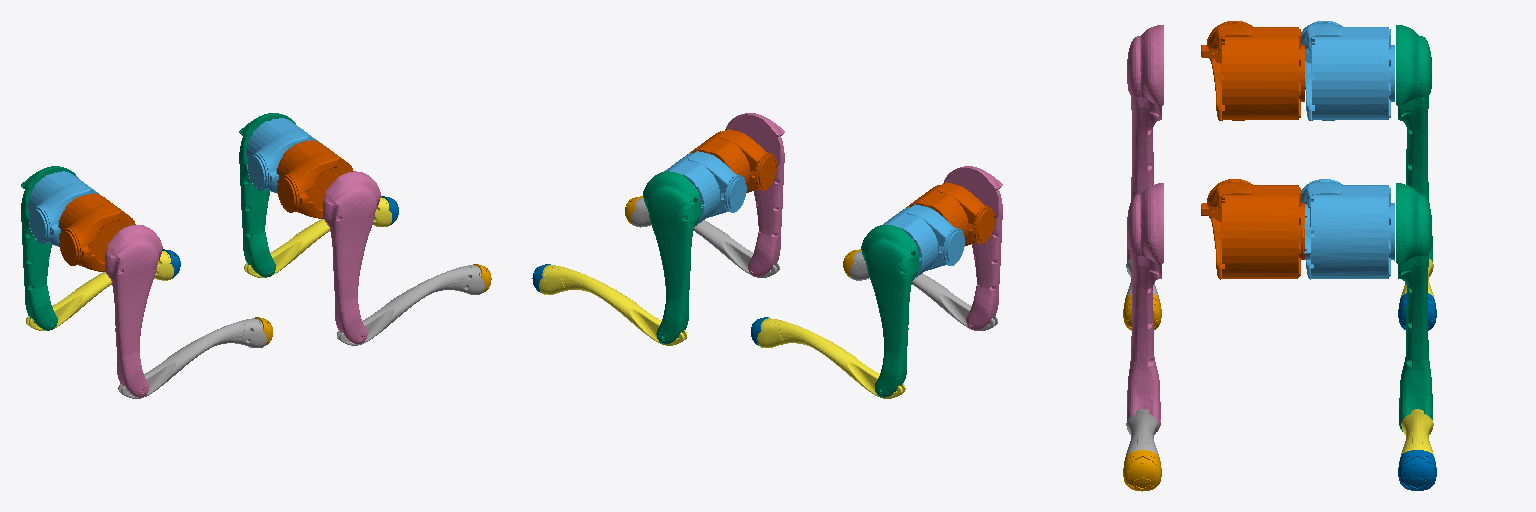
URDF robot description (xiaoli_description0522):
<?xml version="1.0" encoding="utf-8"?>
<!-- This URDF was automatically created by SolidWorks to URDF Exporter! Originally created by Stephen Brawner (brawner@gmail.com) 
     Commit Version: 1.6.0-4-g7f85cfe  Build Version: 1.6.7995.38578
     For more information, please see http://wiki.ros.org/sw_urdf_exporter -->
<robot
  name="xiaoli_description0522">
 <link
    name="base">
    <inertial>
      <origin
        xyz="0.041671 -0.000912 0.025541"
        rpy="0 0 0" />
      <mass
        value="9.707642" />
      <inertia
        ixx="0.065373"
        ixy=" -0.000680"
        ixz=" -0.036230"
        iyy=" 0.207511"
        iyz="-0.000417"
        izz="0.183834" />
    </inertial>
    <visual>
      <origin
        xyz="0 0 0"
        rpy="0 0 0" />
      <geometry>
        <mesh
          filename="package://xiaoli_description0522/meshes/base.STL" />
      </geometry>
      <material
        name="">
        <color
          rgba="1 1 1 1" />
      </material>
    </visual>
    <collision>
      <origin
        xyz="0 0 0"
        rpy="0 0 0" />
      <geometry>
        <mesh
          filename="package://xiaoli_description0522/meshes/base.STL" />
      </geometry>
    </collision>
  </link>
  
  <link
    name="FL_hip">
    <inertial>
      <origin
        xyz="-0.0054 0.00194 -0.000105"
        rpy="0 0 0" />
      <mass
        value="0.678" />
      <inertia
        ixx="0.00048"
        ixy="-3.01E-06"
        ixz="1.11E-06"
        iyy="0.000884"
        iyz="-1.42E-06"
        izz="0.000596" />
    </inertial>
    <visual>
      <origin
        xyz="0 0 0"
        rpy="0 0 0" />
      <geometry>
        <mesh
          filename="package://xiaoli_description0522/meshes/FL_hip.STL" />
      </geometry>
    </visual>
    <collision>
      <origin
        xyz="0 0 0"
        rpy="0 0 0" />
      <geometry>
        <mesh
          filename="package://xiaoli_description0522/meshes/FL_hip.STL" />
      </geometry>
    </collision>
  </link>
  <joint
    name="FL_hip_joint"
    type="revolute">
    <origin
      xyz="0.1934 0.0465 0"
      rpy="0 0 0" />
    <parent
      link="base" />
    <child
      link="FL_hip" />
    <axis
      xyz="1 0 0" />
    <limit
      lower="-1.0472"
      upper="1.0472"
      effort="23.7"
      velocity="30.1" />
  </joint>
  <link
    name="FL_thigh">
    <inertial>
      <origin
        xyz="-0.00374 -0.0223 -0.0327"
        rpy="0 0 0" />
      <mass
        value="1.152" />
      <inertia
        ixx="0.00584"
        ixy="8.72E-05"
        ixz="-0.000289"
        iyy="0.0058"
        iyz="0.000808"
        izz="0.00103" />
    </inertial>
    <visual>
      <origin
        xyz="0 0 0"
        rpy="0 0 0" />
      <geometry>
        <mesh
          filename="package://xiaoli_description0522/meshes/Fl_thigh.STL" />
      </geometry>
    </visual>
    <collision>
      <origin
        xyz="0 0 0"
        rpy="0 0 0" />
      <geometry>
        <mesh
          filename="package://xiaoli_description0522/meshes/Fl_thigh.STL" />
      </geometry>
    </collision>
  </link>
  <joint
    name="FL_thigh_joint"
    type="revolute">
    <origin
      xyz="0 0.0955 0"
      rpy="0 0 0" />
    <parent
      link="FL_hip" />
    <child
      link="FL_thigh" />
    <axis
      xyz="0 1 0" />
    <limit
      lower="-1.5708"
      upper="3.4907"
      effort="23.7"
      velocity="30.1" />
  </joint>
  <link
    name="FL_calf">
    <inertial>
      <origin
        xyz="0.00548 -0.000975 -0.115"
        rpy="0 0 0" />
      <mass
        value="0.154" />
      <inertia
        ixx="0.00108"
        ixy="3.4E-07"
        ixz="1.72E-05"
        iyy="0.0011"
        iyz="8.28E-06"
        izz="3.29E-05" />
    </inertial>
    <visual>
      <origin
        xyz="0 0 0"
        rpy="0 0 0" />
      <geometry>
        <mesh
          filename="package://xiaoli_description0522/meshes/FL_calf.STL" />
      </geometry>
    </visual>
    <collision>
      <origin
        xyz="0 0 0"
        rpy="0 0 0" />
      <geometry>
        <mesh
          filename="package://xiaoli_description0522/meshes/FL_calf.STL" />
      </geometry>
    </collision>
  </link>
  <joint
    name="FL_calf_joint"
    type="revolute">
    <origin
      xyz="0 0 -0.213"
      rpy="0 0 0" />
    <parent
      link="FL_thigh" />
    <child
      link="FL_calf" />
    <axis
      xyz="0 1 0" />
    <limit
      lower="-2.7227"
      upper="-0.83776"
      effort="45.43"
      velocity="15.70" />
  </joint>
 
  <link
    name="FL_foot">
    <inertial>
      <origin
        xyz="0 0 0"
        rpy="0 0 0" />
      <mass
        value="0.04" />
      <inertia
        ixx="9.6e-06"
        ixy="0"
        ixz="0"
        iyy="9.6e-06"
        iyz="0"
        izz="9.6e-06" />
    </inertial>
    <visual>
      <origin
        xyz="0 0 0"
        rpy="0 0 0" />
      <geometry>
        <mesh
          filename="package://xiaoli_description0522/meshes/FL_foot.STL" />
      </geometry>
    </visual>
    <collision>
      <origin
        xyz="0 0 0"
        rpy="0 0 0" />
      <geometry>
        <mesh
          filename="package://xiaoli_description0522/meshes/FL_foot.STL" />
      </geometry>
    </collision>
  </link>
  <joint
    name="FL_foot_joint"
    type="fixed" dont_collapse="true">
    <origin
      xyz="0 0 -0.213"
      rpy="0 0 0" />
    <parent
      link="FL_calf" />
    <child
      link="FL_foot" />
    <axis
      xyz="0 0 0" />
  </joint>
  <link
    name="FR_hip">
    <inertial>
      <origin
        xyz="-0.0054 -0.00194 -0.000105"
        rpy="0 0 0" />
      <mass
        value="0.678" />
      <inertia
        ixx="0.00048"
        ixy="3.01E-06"
        ixz="1.11E-06"
        iyy="0.000884"
        iyz="1.42E-06"
        izz="0.000596" />
    </inertial>
    <visual>
      <origin
        xyz="0 0 0"
        rpy="3.1415 0 0" />
      <geometry>
        <mesh
          filename="package://xiaoli_description0522/meshes/FR_hip.STL" />
      </geometry>
    </visual>
    <collision>
      <origin
        xyz="0 0 0"
        rpy="3.1415 0 0" />
      <geometry>
        <mesh
          filename="package://xiaoli_description0522/meshes/FR_hip.STL" />
      </geometry>
    </collision>
  </link>
  <joint
    name="FR_hip_joint"
    type="revolute">
    <origin
      xyz="0.1934 -0.0465 0"
      rpy="0 0 0" />
    <parent
      link="base" />
    <child
      link="FR_hip" />
    <axis
      xyz="1 0 0" />
    <limit
      lower="-1.0472"
      upper="1.0472"
      effort="23.7"
      velocity="30.1" />
  </joint>
  <link
    name="FR_thigh">
    <inertial>
      <origin
        xyz="-0.00374 0.0223 -0.0327"
        rpy="0 0 0" />
      <mass
        value="1.152" />
      <inertia
        ixx="0.00584"
        ixy="-8.72E-05"
        ixz="-0.000289"
        iyy="0.0058"
        iyz="-0.000808"
        izz="0.00103" />
    </inertial>
    <visual>
      <origin
        xyz="0 0 0"
        rpy="0 0 0" />
      <geometry>
        <mesh
          filename="package://xiaoli_description0522/meshes/FR_thigh.STL" />
      </geometry>
    </visual>
    <collision>
      <origin
        xyz="0 0 0"
        rpy="0 0 0" />
      <geometry>
        <mesh
          filename="package://xiaoli_description0522/meshes/FR_thigh.STL" />
      </geometry>
    </collision>
  </link>
  <joint
    name="FR_thigh_joint"
    type="revolute">
    <origin
      xyz="0 -0.0955 0"
      rpy="0 0 0" />
    <parent
      link="FR_hip" />
    <child
      link="FR_thigh" />
    <axis
      xyz="0 1 0" />
    <limit
      lower="-1.5708"
      upper="3.4907"
      effort="23.7"
      velocity="30.1" />
  </joint>
  <link
    name="FR_calf">
    <inertial>
      <origin
        xyz="0.00548 0.000975 -0.115"
        rpy="0 0 0" />
      <mass
        value="0.154" />
      <inertia
        ixx="0.00108"
        ixy="-3.4E-07"
        ixz="1.72E-05"
        iyy="0.0011"
        iyz="-8.28E-06"
        izz="3.29E-05" />
    </inertial>
    <visual>
      <origin
        xyz="0 0 0"
        rpy="0 0 0" />
      <geometry>
        <mesh
          filename="package://xiaoli_description0522/meshes/FR_calf.STL" />
      </geometry>
    </visual>
    <collision>
      <origin
        xyz="0 0 0"
        rpy="0 0 0" />
      <geometry>
        <mesh
          filename="package://xiaoli_description0522/meshes/FR_calf.STL" />
      </geometry>
    </collision>
  </link>
  <joint
    name="FR_calf_joint"
    type="revolute">
    <origin
      xyz="0 0 -0.213"
      rpy="0 0 0" />
    <parent
      link="FR_thigh" />
    <child
      link="FR_calf" />
    <axis
      xyz="0 1 0" />
    <limit
      lower="-2.7227"
      upper="-0.83776"
      effort="45.43"
      velocity="15.70" />
  </joint>
 
  <link
    name="FR_foot">
    <inertial>
      <origin
        xyz="0 0 0"
        rpy="0 0 0" />
      <mass
        value="0.04" />
      <inertia
        ixx="9.6e-06"
        ixy="0"
        ixz="0"
        iyy="9.6e-06"
        iyz="0"
        izz="9.6e-06" />
    </inertial>
    <visual>
      <origin
        xyz="0 0 0"
        rpy="0 0 0" />
      <geometry>
        <mesh
          filename="package://xiaoli_description0522/meshes/FR_foot.STL" />
      </geometry>
    </visual>
    <collision>
      <origin
        xyz="0 0 0"
        rpy="0 0 0" />
      <geometry>
        <mesh
          filename="package://xiaoli_description0522/meshes/FR_foot.STL" />
      </geometry>
    </collision>
  </link>
  <joint
    name="FR_foot_joint"
    type="fixed" dont_collapse="true">
    <origin
      xyz="0 0 -0.213"
      rpy="0 0 0" />
    <parent
      link="FR_calf" />
    <child
      link="FR_foot" />
    <axis
      xyz="0 0 0" />
  </joint>
  <link
    name="RL_hip">
    <inertial>
      <origin
        xyz="0.0054 0.00194 -0.000105"
        rpy="0 0 0" />
      <mass
        value="0.678" />
      <inertia
        ixx="0.00048"
        ixy="3.01E-06"
        ixz="-1.11E-06"
        iyy="0.000884"
        iyz="-1.42E-06"
        izz="0.000596" />
    </inertial>
    <visual>
      <origin
        xyz="0 0 0"
        rpy="0 3.1415 0" />
      <geometry>
        <mesh
          filename="package://xiaoli_description0522/meshes/RL_hip.STL" />
      </geometry>
    </visual>
    <collision>
      <origin
        xyz="0 0 0"
        rpy="0 3.1415 0" />
      <geometry>
        <mesh
          filename="package://xiaoli_description0522/meshes/RL_hip.STL" />
      </geometry>
    </collision>
  </link>
  <joint
    name="RL_hip_joint"
    type="revolute">
    <origin
      xyz="-0.1934 0.0465 0"
      rpy="0 0 0" />
    <parent
      link="base" />
    <child
      link="RL_hip" />
    <axis
      xyz="1 0 0" />
    <limit
      lower="-1.0472"
      upper="1.0472"
      effort="23.7"
      velocity="30.1" />
  </joint>
  <link
    name="RL_thigh">
    <inertial>
      <origin
        xyz="-0.00374 -0.0223 -0.0327"
        rpy="0 0 0" />
      <mass
        value="1.152" />
      <inertia
        ixx="0.00584"
        ixy="8.72E-05"
        ixz="-0.000289"
        iyy="0.0058"
        iyz="0.000808"
        izz="0.00103" />
    </inertial>
    <visual>
      <origin
        xyz="0 0 0"
        rpy="0 0 0" />
      <geometry>
        <mesh
          filename="package://xiaoli_description0522/meshes/RL_thigh.STL" />
      </geometry>
    </visual>
    <collision>
      <origin
        xyz="0 0 0"
        rpy="0 0 0" />
      <geometry>
        <mesh
          filename="package://xiaoli_description0522/meshes/RL_thigh.STL" />
      </geometry>
    </collision>
  </link>
  <joint
    name="RL_thigh_joint"
    type="revolute">
    <origin
      xyz="0 0.0955 0"
      rpy="0 0 0" />
    <parent
      link="RL_hip" />
    <child
      link="RL_thigh" />
    <axis
      xyz="0 1 0" />
    <limit
      lower="-0.5236"
      upper="4.5379"
      effort="23.7"
      velocity="30.1" />
  </joint>
  <link
    name="RL_calf">
    <inertial>
      <origin
        xyz="0.00548 -0.000975 -0.115"
        rpy="0 0 0" />
      <mass
        value="0.154" />
      <inertia
        ixx="0.00108"
        ixy="3.4E-07"
        ixz="1.72E-05"
        iyy="0.0011"
        iyz="8.28E-06"
        izz="3.29E-05" />
    </inertial>
    <visual>
      <origin
        xyz="0 0 0"
        rpy="0 0 0" />
      <geometry>
        <mesh
          filename="package://xiaoli_description0522/meshes/RL_calf.STL" />
      </geometry>
    </visual>
    <collision>
      <origin
        xyz="0 0 0"
        rpy="0 0 0" />
      <geometry>
        <mesh
          filename="package://xiaoli_description0522/meshes/RL_calf.STL" />
      </geometry>
    </collision>
  </link>
  <joint
    name="RL_calf_joint"
    type="revolute">
    <origin
      xyz="0 0 -0.213"
      rpy="0 0 0" />
    <parent
      link="RL_thigh" />
    <child
      link="RL_calf" />
    <axis
      xyz="0 1 0" />
    <limit
      lower="-2.7227"
      upper="-0.83776"
      effort="45.43"
      velocity="15.70" />
  </joint>
 
  <link
    name="RL_foot">
    <inertial>
      <origin
        xyz="0 0 0"
        rpy="0 0 0" />
      <mass
        value="0.04" />
      <inertia
        ixx="9.6e-06"
        ixy="0"
        ixz="0"
        iyy="9.6e-06"
        iyz="0"
        izz="9.6e-06" />
    </inertial>
    <visual>
      <origin
        xyz="0 0 0"
        rpy="0 0 0" />
      <geometry>
        <mesh
          filename="package://xiaoli_description0522/meshes/RL_foot.STL" />
      </geometry>
    </visual>
    <collision>
      <origin
        xyz="0 0 0"
        rpy="0 0 0" />
      <geometry>
        <mesh
          filename="package://xiaoli_description0522/meshes/RL_foot.STL" />
      </geometry>
    </collision>
  </link>
  <joint
    name="RL_foot_joint"
    type="fixed" dont_collapse="true">
    <origin
      xyz="0 0 -0.213"
      rpy="0 0 0" />
    <parent
      link="RL_calf" />
    <child
      link="RL_foot" />
    <axis
      xyz="0 0 0" />
  </joint>
  <link
    name="RR_hip">
    <inertial>
      <origin
        xyz="0.0054 -0.00194 -0.000105"
        rpy="0 0 0" />
      <mass
        value="0.678" />
      <inertia
        ixx="0.00048"
        ixy="-3.01E-06"
        ixz="-1.11E-06"
        iyy="0.000884"
        iyz="1.42E-06"
        izz="0.000596" />
    </inertial>
    <visual>
      <origin
        xyz="0 0 0"
        rpy="3.1415 3.1415 0" />
      <geometry>
        <mesh
          filename="package://xiaoli_description0522/meshes/RR_hip.STL" />
      </geometry>
    </visual>
    <collision>
      <origin
        xyz="0 0 0"
        rpy="3.1415 3.1415 0" />
      <geometry>
        <mesh
          filename="package://xiaoli_description0522/meshes/RR_hip.STL" />
      </geometry>
    </collision>
  </link>
  <joint
    name="RR_hip_joint"
    type="revolute">
    <origin
      xyz="-0.1934 -0.0465 0"
      rpy="0 0 0" />
    <parent
      link="base" />
    <child
      link="RR_hip" />
    <axis
      xyz="1 0 0" />
    <limit
      lower="-1.0472"
      upper="1.0472"
      effort="23.7"
      velocity="30.1" />
  </joint>
  <link
    name="RR_thigh">
    <inertial>
      <origin
        xyz="-0.00374 0.0223 -0.0327"
        rpy="0 0 0" />
      <mass
        value="1.152" />
      <inertia
        ixx="0.00584"
        ixy="-8.72E-05"
        ixz="-0.000289"
        iyy="0.0058"
        iyz="-0.000808"
        izz="0.00103" />
    </inertial>
    <visual>
      <origin
        xyz="0 0 0"
        rpy="0 0 0" />
      <geometry>
        <mesh
          filename="package://xiaoli_description0522/meshes/RR_thigh.STL" />
      </geometry>
    </visual>
    <collision>
      <origin
        xyz="0 0 0"
        rpy="0 0 0" />
      <geometry>
        <mesh
          filename="package://xiaoli_description0522/meshes/RR_thigh.STL" />
      </geometry>
    </collision>
  </link>
  <joint
    name="RR_thigh_joint"
    type="revolute">
    <origin
      xyz="0 -0.0955 0"
      rpy="0 0 0" />
    <parent
      link="RR_hip" />
    <child
      link="RR_thigh" />
    <axis
      xyz="0 1 0" />
    <limit
      lower="-0.5236"
      upper="4.5379"
      effort="23.7"
      velocity="30.1" />
  </joint>
  <link
    name="RR_calf">
    <inertial>
      <origin
        xyz="0.00548 0.000975 -0.115"
        rpy="0 0 0" />
      <mass
        value="0.154" />
      <inertia
        ixx="0.00108"
        ixy="-3.4E-07"
        ixz="1.72E-05"
        iyy="0.0011"
        iyz="-8.28E-06"
        izz="3.29E-05" />
    </inertial>
    <visual>
      <origin
        xyz="0 0 0"
        rpy="0 0 0" />
      <geometry>
        <mesh
          filename="package://xiaoli_description0522/meshes/RR_calf.STL" />
      </geometry>
    </visual>
    <collision>
      <origin
        xyz="0 0 0"
        rpy="0 0 0" />
      <geometry>
        <mesh
          filename="package://xiaoli_description0522/meshes/RR_calf.STL" />
      </geometry>
    </collision>
  </link>
  <joint
    name="RR_calf_joint"
    type="revolute">
    <origin
      xyz="0 0 -0.213"
      rpy="0 0 0" />
    <parent
      link="RR_thigh" />
    <child
      link="RR_calf" />
    <axis
      xyz="0 1 0" />
    <limit
      lower="-2.7227"
      upper="-0.83776"
      effort="45.43"
      velocity="15.70" />
  </joint>
  
  <link
    name="RR_foot">
    <inertial>
      <origin
        xyz="0 0 0"
        rpy="0 0 0" />
      <mass
        value="0.04" />
      <inertia
        ixx="9.6e-06"
        ixy="0"
        ixz="0"
        iyy="9.6e-06"
        iyz="0"
        izz="9.6e-06" />
    </inertial>
    <visual>
      <origin
        xyz="0 0 0"
        rpy="0 0 0" />
      <geometry>
        <mesh
          filename="package://xiaoli_description0522/meshes/RR_foot.STL" />
      </geometry>
    </visual>
    <collision>
      <origin
        xyz="0 0 0"
        rpy="0 0 0" />
      <geometry>
        <mesh
          filename="package://xiaoli_description0522/meshes/RR_foot.STL" />
      </geometry>
    </collision>
  </link>
  <joint
    name="RR_foot_joint"
    type="fixed" dont_collapse="true">
    <origin
      xyz="0 0 -0.213"
      rpy="0 0 0" />
    <parent
      link="RR_calf" />
    <child
      link="RR_foot" />
    <axis
      xyz="0 0 0" />
  </joint>
</robot>

--- Render facts (derived) ---
The picture shows the robot from 3 angles, left to right: view 1: azimuth 30°, elevation 25°; view 2: azimuth 150°, elevation 25°; view 3: azimuth 270°, elevation 25°; orthographic projection.
Model xiaoli_description0522 with 17 links and 16 joints (12 revolute, 4 fixed), rooted at base, posed joints at zero except 4 at the middle of their limits (FL_calf_joint = -1.78, FR_calf_joint = -1.78, RL_calf_joint = -1.78, RR_calf_joint = -1.78).
Visible links, largest first — view 1: FR_thigh, RR_thigh, FR_hip, RR_hip, RL_thigh, FL_thigh, FL_hip, RL_hip, FR_calf, RR_calf, RL_calf, FL_calf; view 2: FL_thigh, RL_thigh, RR_thigh, FR_thigh, FL_hip, RL_hip, FR_hip, FL_calf, RR_hip, RL_calf, FR_calf, RR_calf; view 3: FR_hip, RR_hip, FL_hip, RL_hip, FR_thigh, FL_thigh, RR_thigh, RL_thigh, FL_foot, FR_foot, FL_calf, FR_calf.
Link boxes in pixels (bbox=[...]): FR_thigh: bbox=[323, 171, 380, 344]; RR_thigh: bbox=[105, 225, 162, 397]; FR_hip: bbox=[277, 140, 353, 218]; RR_hip: bbox=[58, 193, 135, 271]; RL_thigh: bbox=[21, 166, 77, 330]; FL_thigh: bbox=[239, 113, 295, 277]; FL_hip: bbox=[246, 118, 318, 193]; RL_hip: bbox=[27, 171, 99, 246]; FR_calf: bbox=[337, 265, 484, 345]; RR_calf: bbox=[118, 318, 266, 398]; RL_calf: bbox=[26, 251, 173, 330]; FL_calf: bbox=[244, 197, 391, 277]; FL_thigh: bbox=[643, 171, 700, 344]; RL_thigh: bbox=[861, 225, 918, 397]; RR_thigh: bbox=[943, 166, 1002, 330]; FR_thigh: bbox=[725, 113, 784, 277]; FL_hip: bbox=[664, 151, 746, 225]; RL_hip: bbox=[883, 204, 964, 279]; FR_hip: bbox=[687, 129, 776, 192]; FL_calf: bbox=[539, 265, 686, 345]; RR_hip: bbox=[906, 182, 994, 246]; RL_calf: bbox=[757, 318, 905, 398]; FR_calf: bbox=[632, 198, 779, 277]; RR_calf: bbox=[850, 251, 997, 330]; FR_hip: bbox=[1201, 179, 1304, 279]; RR_hip: bbox=[1201, 21, 1304, 120]; FL_hip: bbox=[1301, 179, 1394, 279]; RL_hip: bbox=[1301, 21, 1394, 120]; FR_thigh: bbox=[1127, 183, 1163, 431]; FL_thigh: bbox=[1396, 183, 1432, 431]; RR_thigh: bbox=[1127, 25, 1163, 261]; RL_thigh: bbox=[1396, 25, 1432, 261]; FL_foot: bbox=[1398, 450, 1436, 490]; FR_foot: bbox=[1123, 450, 1161, 491]; FL_calf: bbox=[1398, 409, 1436, 467]; FR_calf: bbox=[1123, 409, 1161, 468].
Size in the robot's own frame: 0.6914 by 0.3236 by 0.2832 metres.
16 mesh visuals loaded from 17 distinct referenced files (16 binary STL); not drawn: 1 (reference not matched to a file when rendering).
